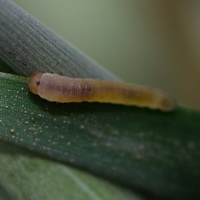insect: (0, 76, 199, 199), (28, 72, 175, 110)
